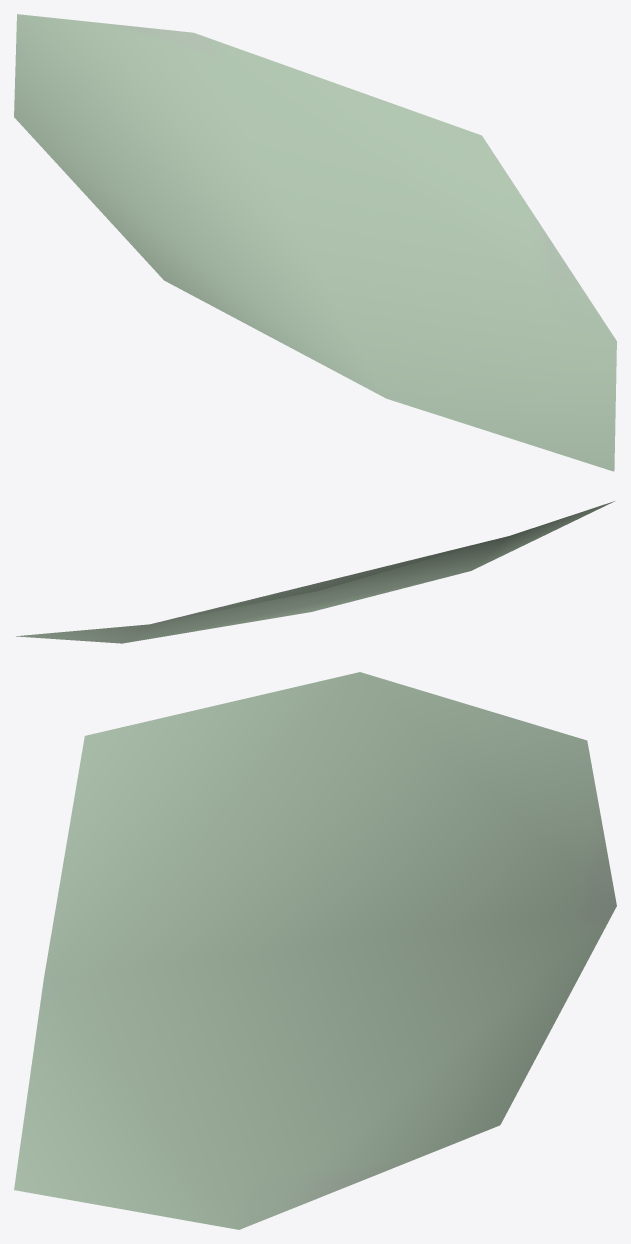
Rendered from TROLLHOLE02_HOLECAP173.fbx.
The picture shows the model from 3 angles, top to bottom: view 1: azimuth 30°, elevation 25°; view 2: azimuth 150°, elevation 25°; view 3: azimuth 270°, elevation 25°; orthographic projection. The views are drawn at different scales.
Visible parts, largest first — view 1: TROLLHOLE02_HOLECAP173; view 2: TROLLHOLE02_HOLECAP173; view 3: TROLLHOLE02_HOLECAP173.
Boxes of the visible parts, bbox=[...] form: TROLLHOLE02_HOLECAP173: bbox=[14, 14, 616, 471]; TROLLHOLE02_HOLECAP173: bbox=[16, 501, 614, 643]; TROLLHOLE02_HOLECAP173: bbox=[14, 672, 616, 1229].
Size of the model in its own units: 30562 by 17681 by 30386.
1 material, 1 textured.
